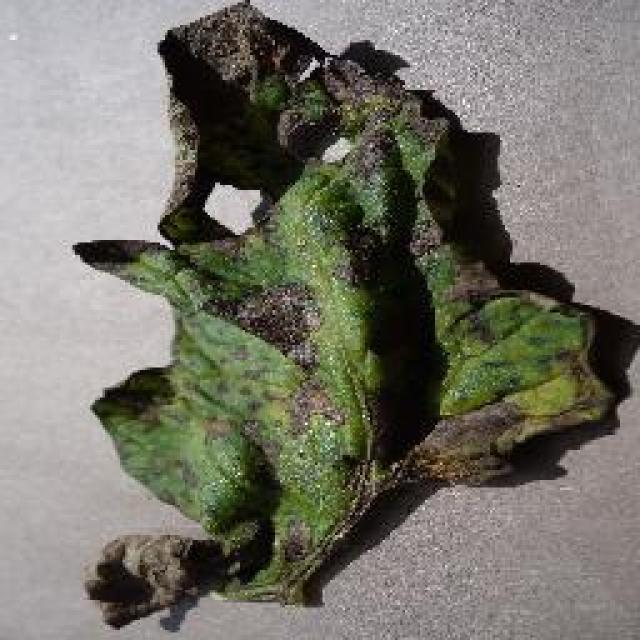leaf blight: (79, 0, 616, 629)
